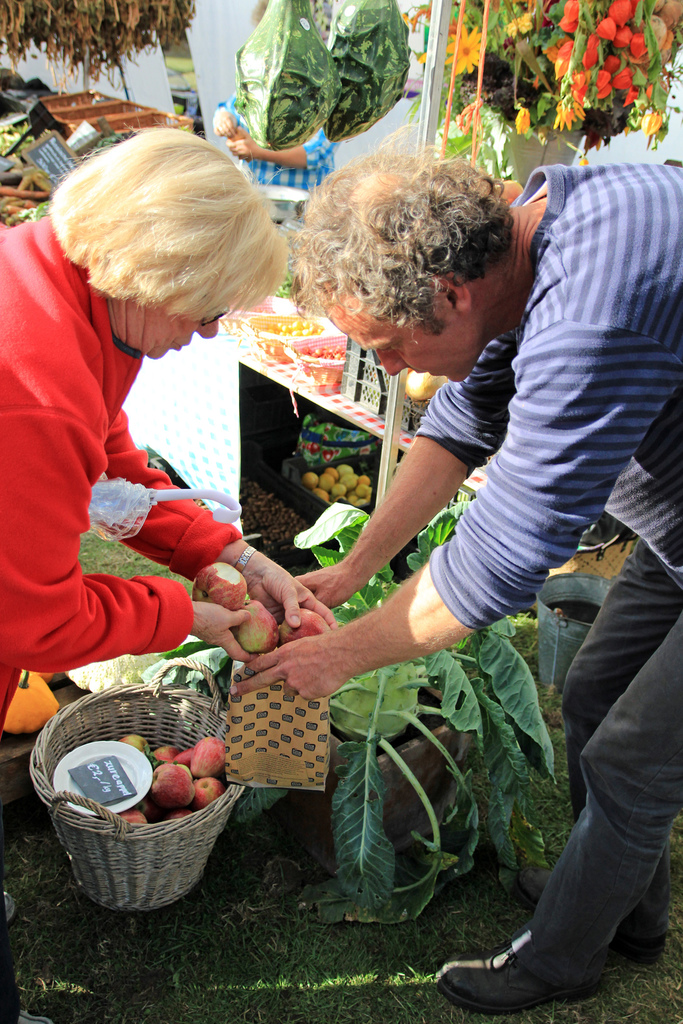Apple: (113, 732, 225, 824), (190, 560, 246, 612), (229, 600, 278, 656), (278, 607, 334, 645), (150, 759, 194, 804)
